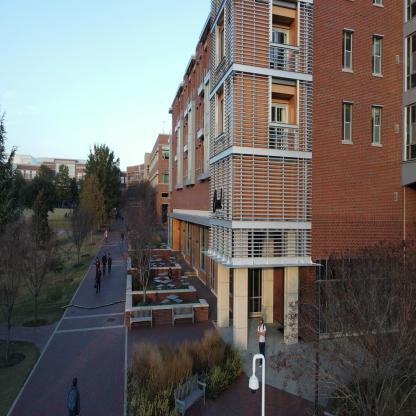Wolf Ridge: (167, 5, 415, 374)
